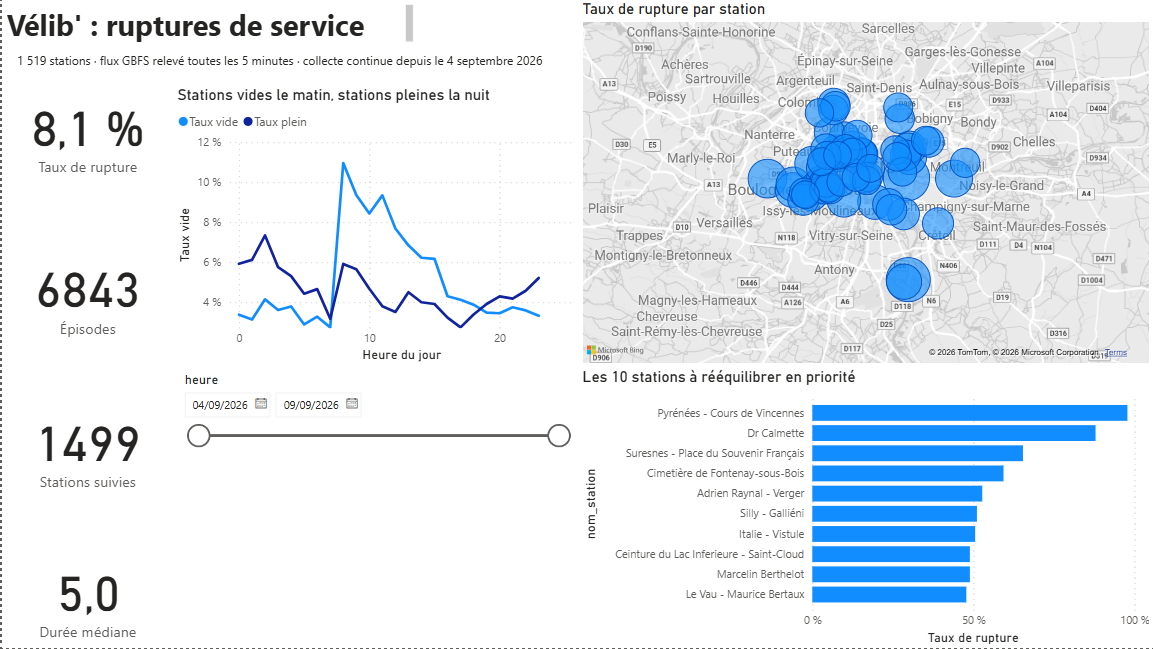

Layout of this report page (visuals, bound fields, positions):
{"tool":"powerbi","page":{"name":"Page 1","canvas":[1280,720],"ordinal":0},"visuals":[{"type":"card","fields":{"Values":["analytics fct_episode_rupture.Épisodes"]},"box":[0,268.3,190,115],"z":0},{"type":"card","fields":{"Values":["analytics fct_episode_rupture.Durée médiane"]},"box":[0,606.7,190,113.3],"z":1000},{"type":"card","fields":{"Values":["analytics fct_station_heure.Taux de rupture"]},"box":[0,90,190,112.9],"z":2000},{"type":"card","fields":{"Values":["analytics fct_station_heure.Stations suivies"]},"box":[0,441.7,190,110],"z":3000},{"type":"map","title":"Taux de rupture par station","fields":{"Y":["analytics dim_station.latitude"],"X":["analytics dim_station.longitude"],"Size":["analytics fct_station_heure.Taux de rupture"]},"box":[640,0,640,408.6],"z":4000},{"type":"lineChart","title":"Stations vides le matin, stations pleines la nuit","fields":{"Category":["analytics fct_station_heure.Heure du jour"],"Y":["analytics fct_station_heure.Taux vide"],"Y2":["analytics fct_station_heure.Taux plein"]},"box":[190,95.7,450,311.4],"z":5000},{"type":"clusteredBarChart","title":"Les 10 stations à rééquilibrer en priorité","fields":{"Category":["analytics dim_station.nom_station"],"Y":["analytics fct_station_heure.Taux de rupture"]},"box":[640,408,640,312],"z":6000},{"type":"slicer","fields":{"Values":["analytics fct_station_heure.heure"]},"box":[190,408,450,312],"z":7000},{"type":"textbox","box":[0,0,461.7,51.7],"z":7001},{"type":"textbox","box":[11.7,51.7,628.3,38.3],"z":7002}]}

Visuals, with their boxes in screenshot pixels (x1, y1, x2, y2), scaled from the page's 1280x720 canvas onto the 1153x649 screenshot:
card - analytics fct_episode_rupture.Épisodes: (0,242,171,346)
card - analytics fct_episode_rupture.Durée médiane: (0,547,171,648)
card - analytics fct_station_heure.Taux de rupture: (0,81,171,183)
card - analytics fct_station_heure.Stations suivies: (0,398,171,497)
"Taux de rupture par station" map: (576,0,1152,368)
"Stations vides le matin, stations pleines la nuit" lineChart: (171,86,576,367)
"Les 10 stations à rééquilibrer en priorité" clusteredBarChart: (576,368,1152,648)
slicer - analytics fct_station_heure.heure: (171,368,576,648)
textbox: (0,0,416,47)
textbox: (11,47,576,81)
